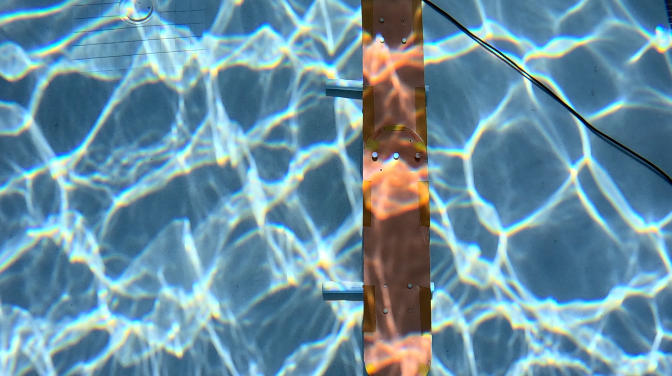pathmarker: (361, 0, 431, 375)
